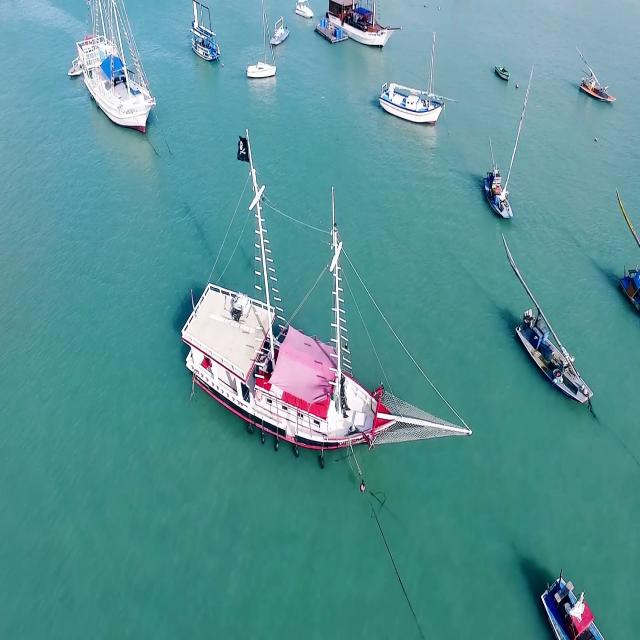ship: (178, 130, 480, 461), (66, 1, 158, 142), (517, 307, 594, 411), (525, 578, 609, 630), (318, 4, 404, 52), (380, 81, 449, 122), (185, 8, 227, 64), (479, 159, 518, 219), (574, 67, 616, 111), (244, 59, 281, 81), (267, 15, 291, 47), (492, 63, 514, 82), (295, 1, 313, 18)
